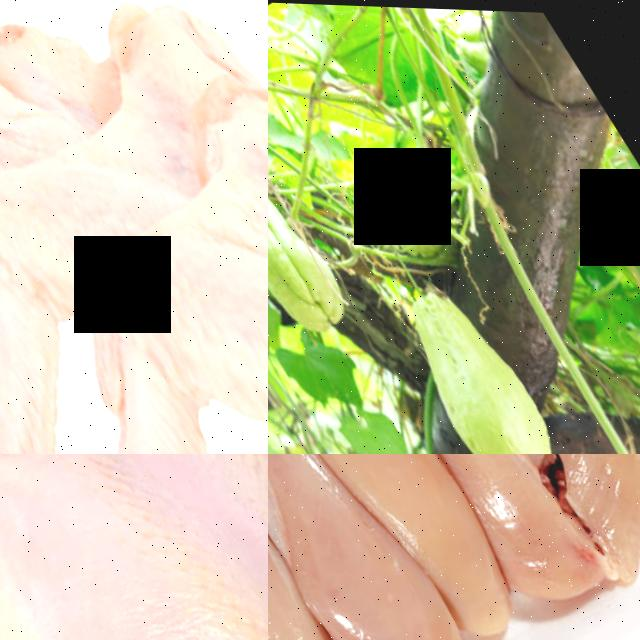chayote: (351, 233, 592, 454), (268, 160, 366, 356)
chicken breast: (302, 454, 626, 639), (268, 454, 541, 640), (0, 454, 268, 640), (357, 454, 640, 585), (268, 454, 456, 640), (268, 454, 362, 640)
chicken wing: (0, 70, 268, 454), (0, 0, 217, 442)
